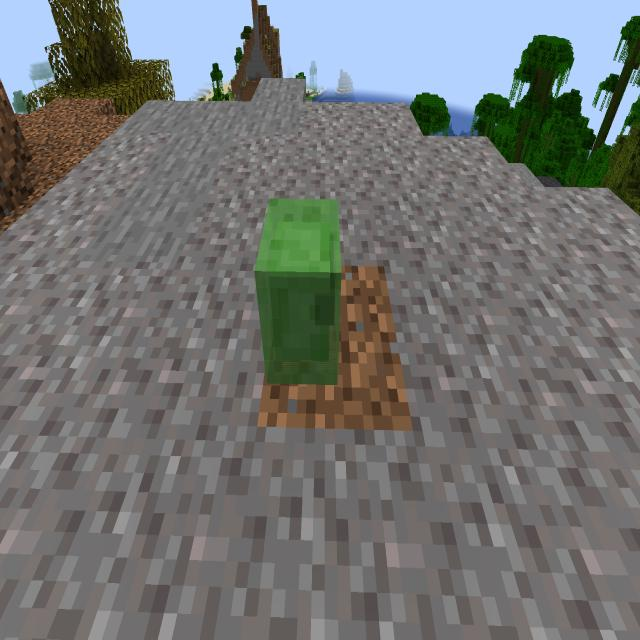Slime: (245, 180, 356, 413)
